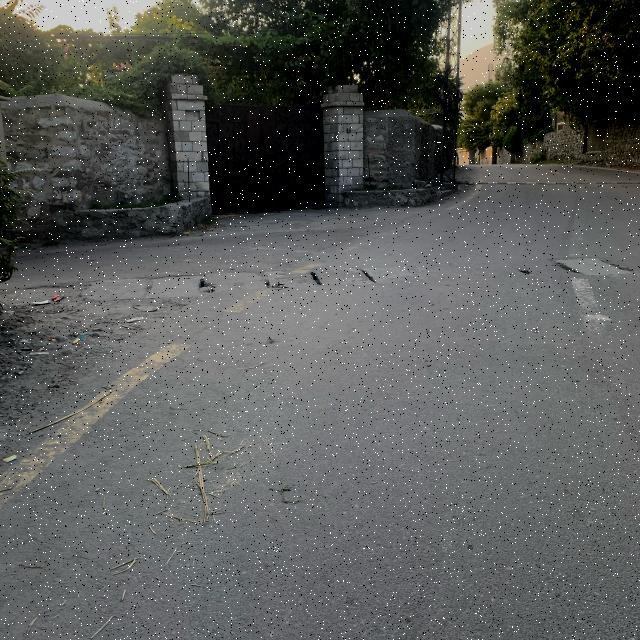left: (0, 230, 247, 342)
